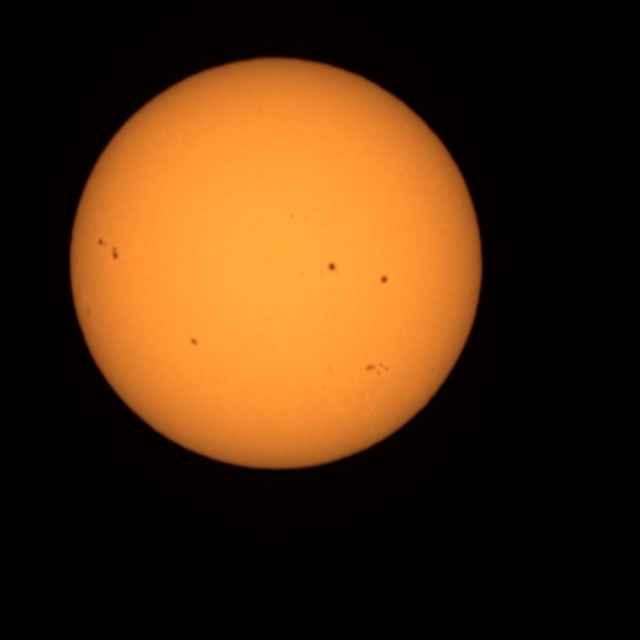sunspot: (96, 237, 120, 262), (364, 361, 390, 378), (288, 211, 312, 224), (324, 260, 339, 276), (109, 244, 120, 262), (378, 273, 390, 286), (188, 336, 200, 348)
